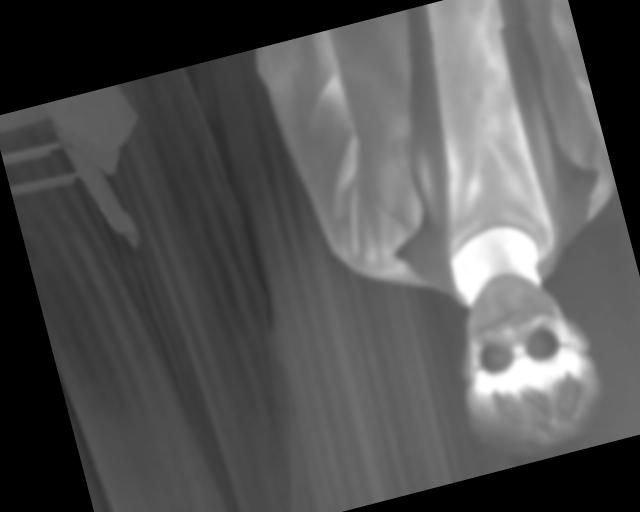face: (438, 257, 612, 464)
